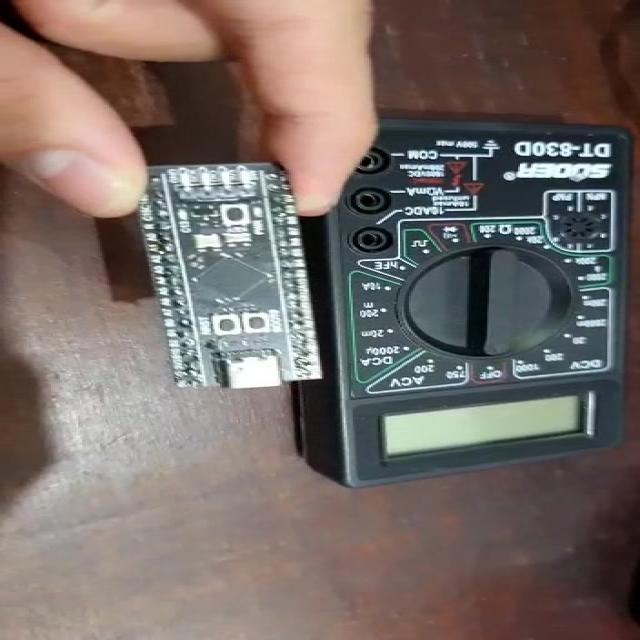multimeter: (331, 122, 640, 466)
stm32: (136, 166, 324, 386)
